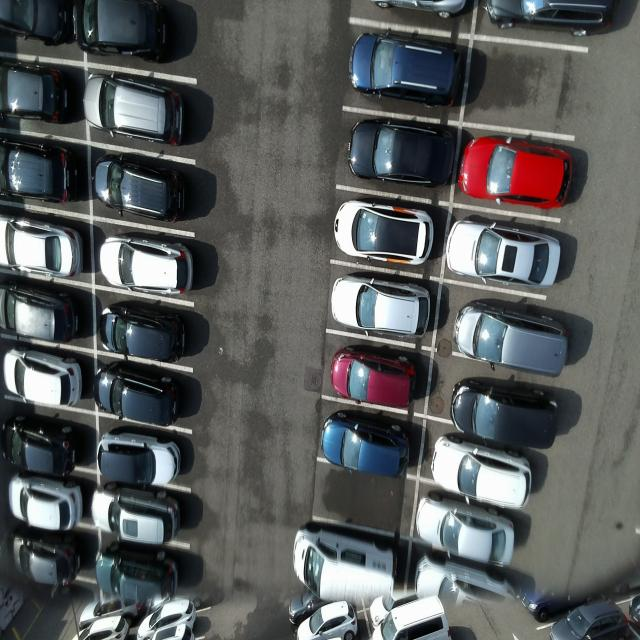car: (348, 28, 464, 111), (454, 300, 570, 382), (459, 132, 575, 211), (81, 67, 187, 149), (446, 218, 565, 291), (449, 377, 562, 452), (348, 117, 458, 194), (415, 492, 517, 570), (431, 436, 535, 511), (333, 199, 438, 268), (331, 275, 436, 342), (94, 155, 190, 227), (73, 1, 173, 69), (102, 232, 200, 299), (320, 413, 416, 480), (330, 346, 423, 412), (1, 214, 88, 284), (95, 362, 183, 429), (92, 485, 183, 549), (100, 305, 190, 365), (1, 283, 84, 348), (1, 347, 83, 412), (1, 413, 79, 479), (95, 431, 185, 488), (7, 474, 84, 531)
free_space: (462, 34, 593, 144), (313, 460, 421, 546)
